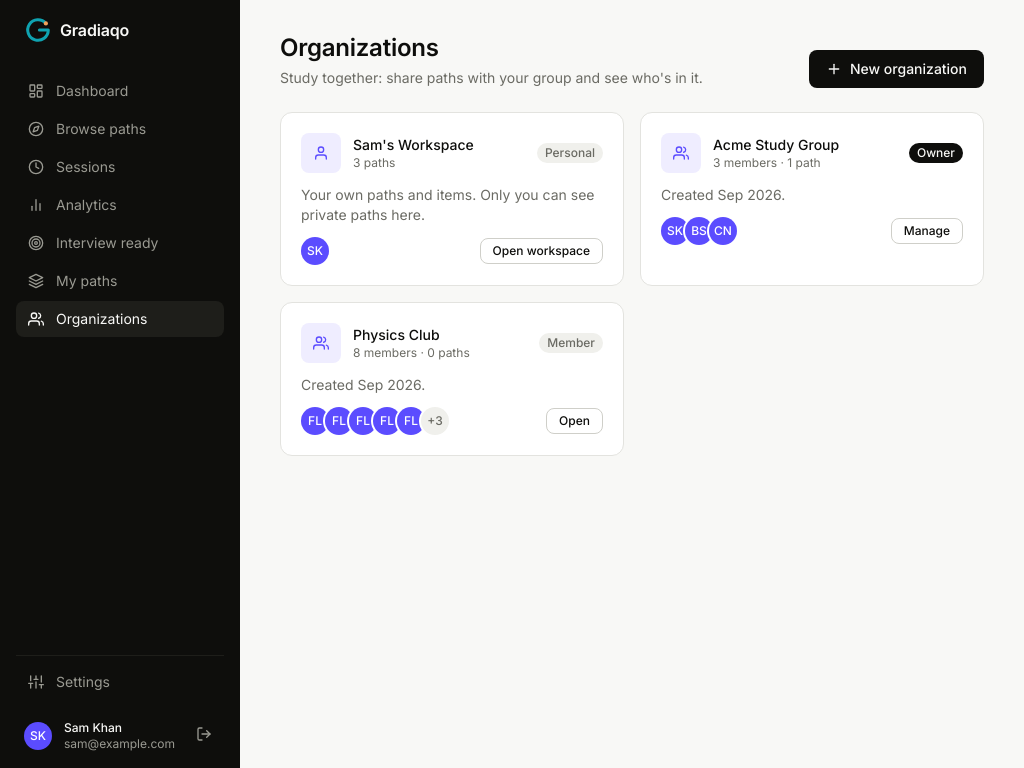
it: OrganizationsPage › closes the new organization dialog without creating one
The image size is (1024, 768).
Click the button "New organization".
click(896, 69)  # box [809,50,984,88]
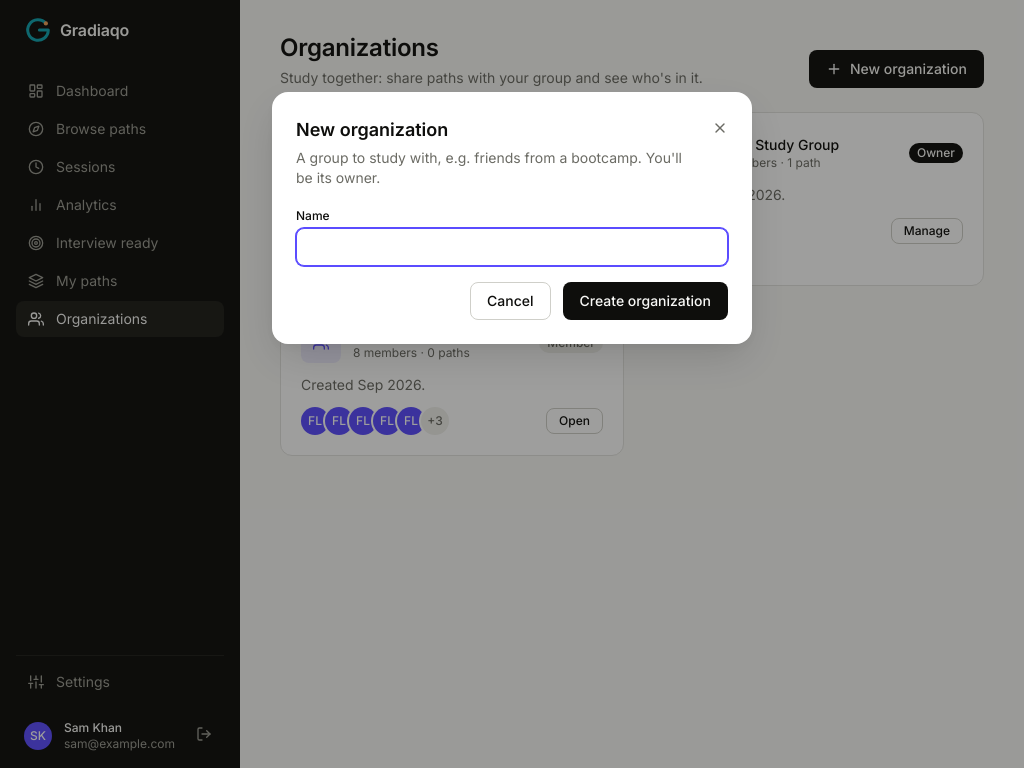
Type "Group" into the field labelled "Name".
click(512, 247); type("Group")  # box [296,228,728,266]
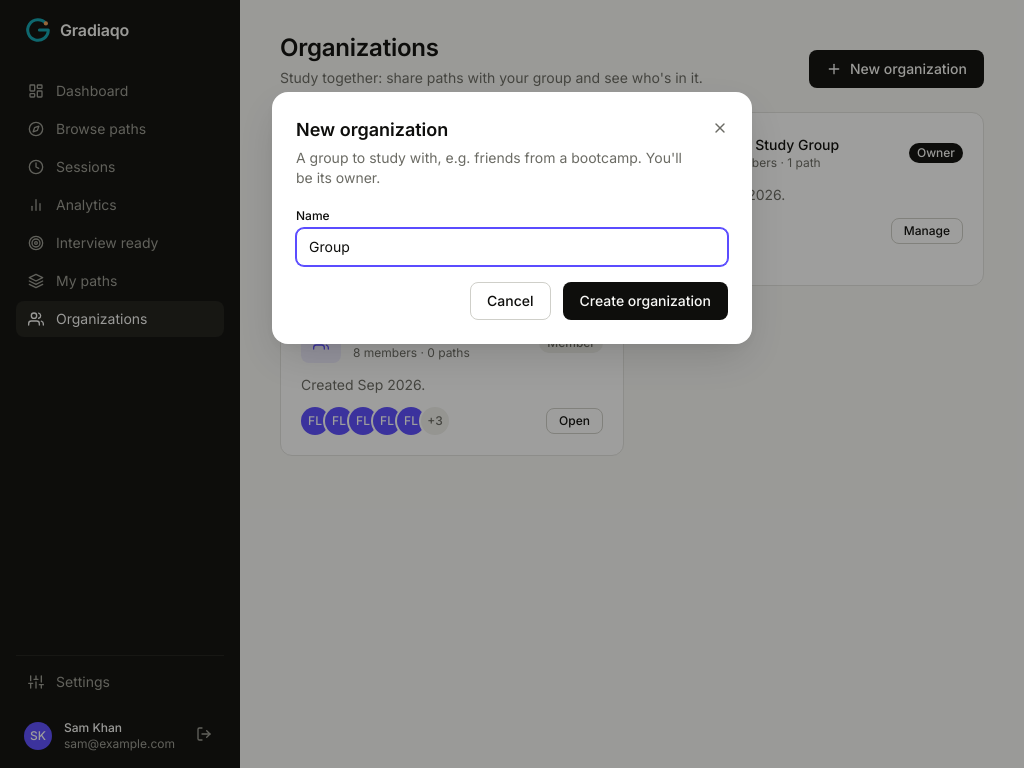
Click the button "Create organization".
click(645, 301)  # box [563,282,728,320]
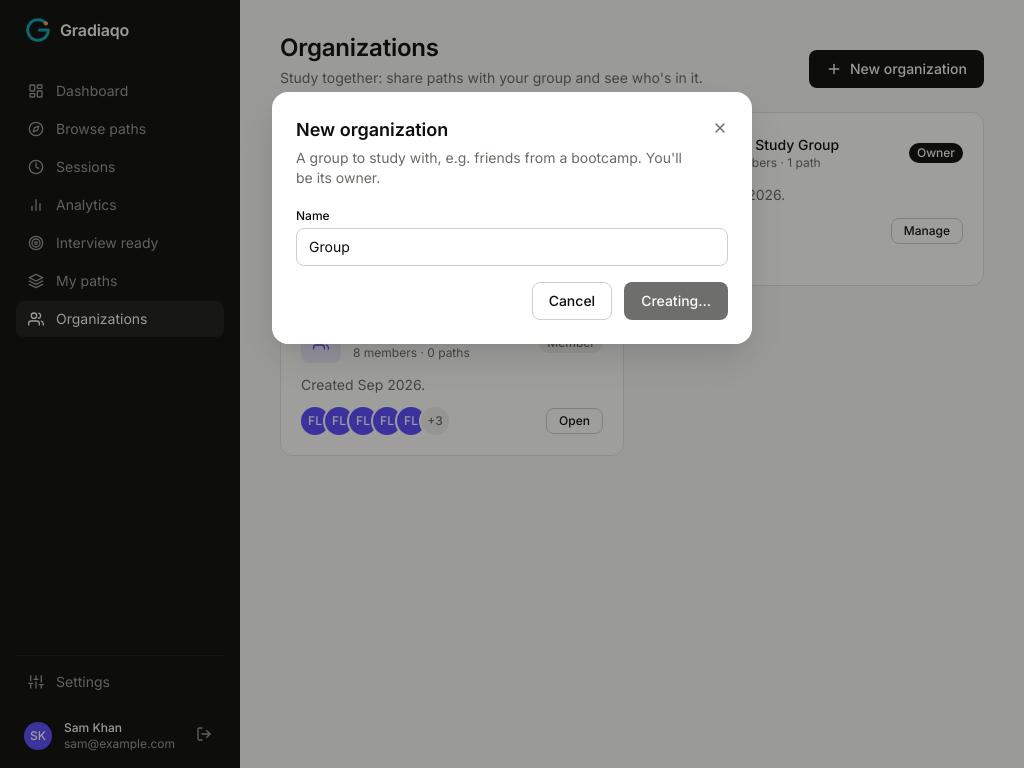
Now the button "Creating…" is disabled, box [624,282,728,320]
Click the button "Cancel".
click(572, 301)  # box [532,282,612,320]
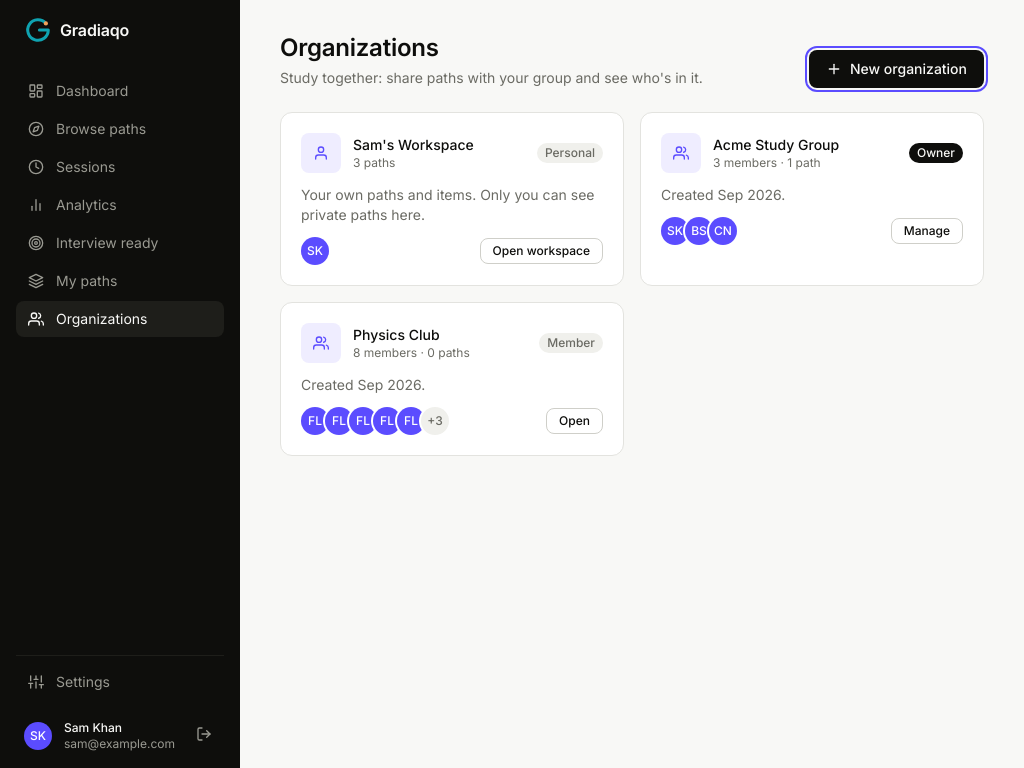
Now the dialog is gone
